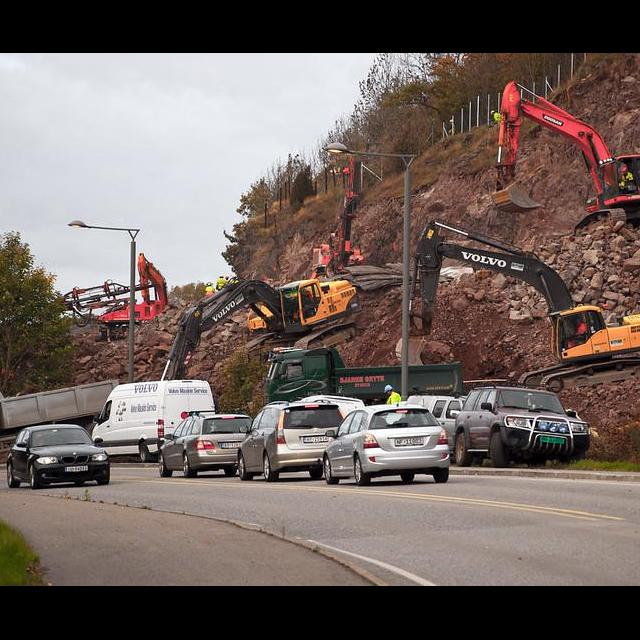Excavator: (395, 218, 640, 390), (491, 80, 640, 237), (158, 280, 376, 382), (43, 253, 168, 342), (309, 154, 364, 279)
Hardhat: (383, 386, 392, 393), (621, 166, 629, 172), (575, 319, 581, 323), (218, 274, 224, 278), (303, 290, 307, 295), (206, 282, 211, 286), (490, 111, 494, 115), (225, 275, 229, 279), (232, 275, 237, 278)
NO-Mask: (386, 393, 391, 397)
Person: (567, 318, 586, 347), (619, 166, 633, 190), (384, 386, 401, 404), (302, 290, 313, 304), (215, 274, 224, 290), (490, 110, 500, 123), (205, 282, 214, 294), (230, 275, 238, 284), (224, 275, 229, 284)
SUV: (454, 386, 590, 468), (406, 395, 467, 460), (298, 396, 364, 417)
Safety Vest: (385, 393, 400, 405), (620, 174, 633, 186), (575, 324, 586, 334), (305, 292, 313, 304), (216, 279, 225, 289), (493, 114, 500, 122), (205, 287, 214, 292), (231, 279, 238, 284), (225, 280, 228, 284)
dump truck: (265, 347, 463, 406), (0, 378, 118, 466)
sedan: (322, 404, 449, 486), (236, 401, 344, 482), (6, 424, 110, 490), (157, 414, 254, 478)
van: (90, 380, 215, 462)
